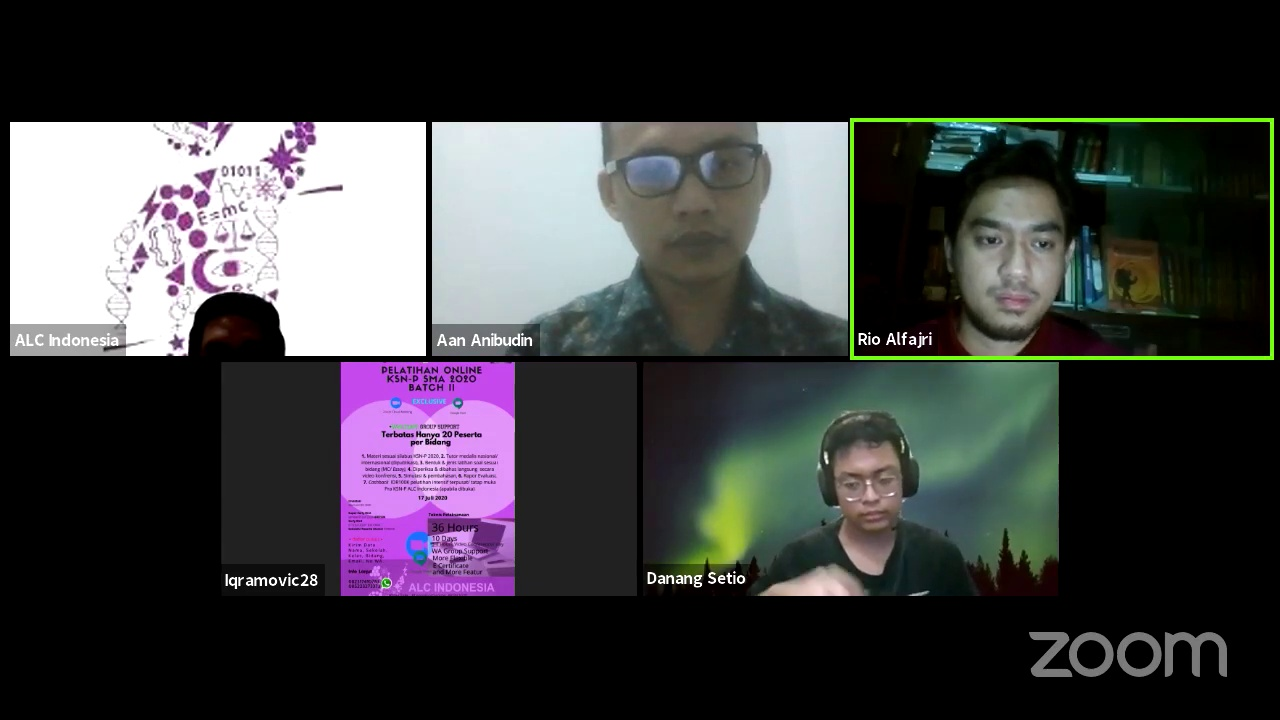Distracted: (813, 414, 931, 544)
Not Distracted: (919, 158, 1092, 333), (599, 128, 786, 279)
